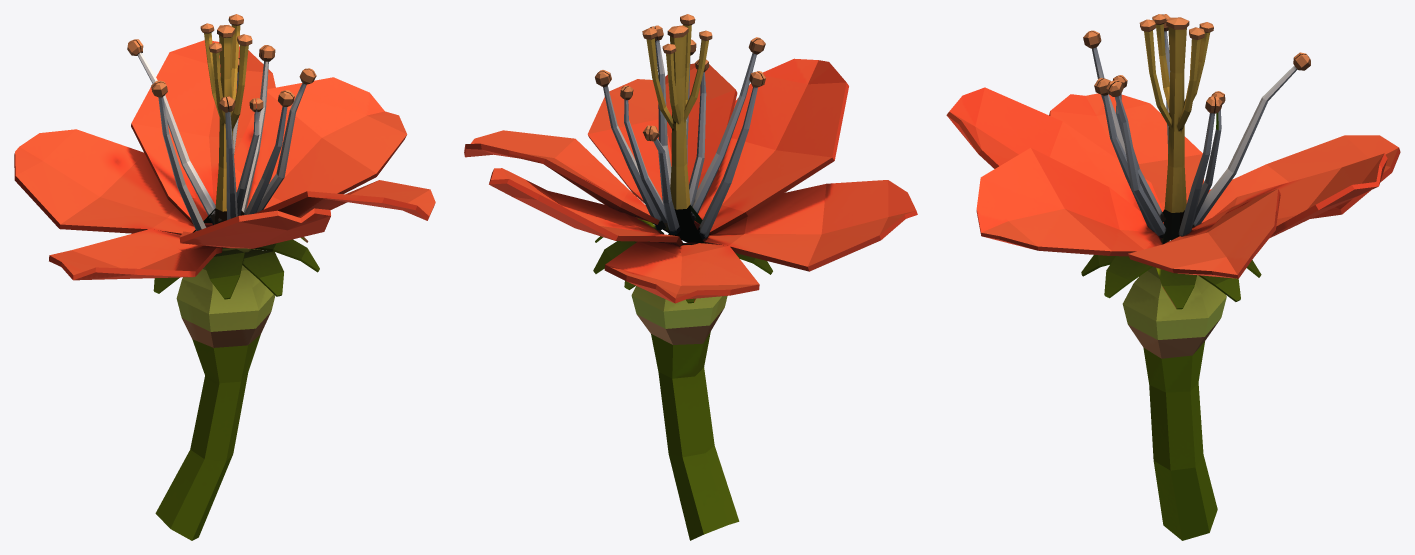
3 views of the same model, side by side, from view 1: azimuth 30°, elevation 25°; view 2: azimuth 150°, elevation 25°; view 3: azimuth 270°, elevation 25° (orthographic). The views are drawn at different scales.
Visible parts, largest first — view 1: flower; view 2: flower; view 3: flower.
Boxes of the visible parts, left/top/right/bottom form: flower: left=14, top=14, right=435, bottom=540; flower: left=464, top=14, right=917, bottom=540; flower: left=946, top=14, right=1400, bottom=540.
Size of the model in its own units: 1.52 by 1.91 by 1.47.
1 material, 1 textured.
